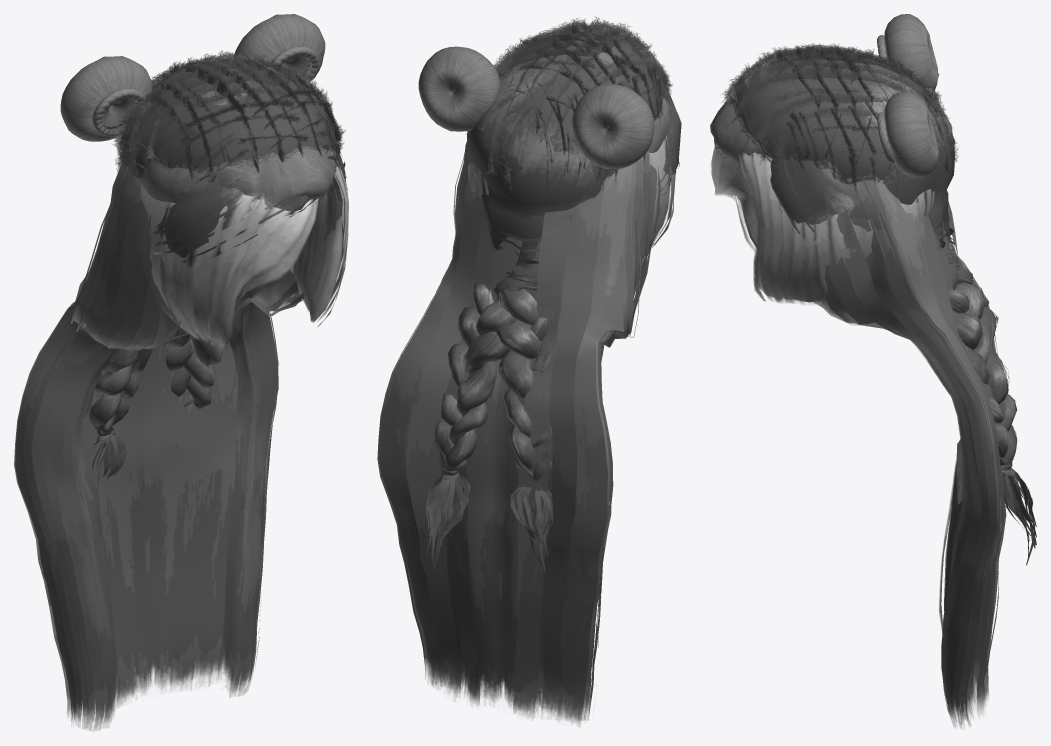
Rendered from male-hair.glb.
3 views of the same model, side by side, from view 1: azimuth 30°, elevation 25°; view 2: azimuth 150°, elevation 25°; view 3: azimuth 270°, elevation 25° (orthographic). The views are drawn at different scales.
Visible parts, largest first — view 1: male-long, male-curls, male-waves, male-braids, male-buns, male-short; view 2: male-long, male-braids, male-curls, male-buns, male-waves, male-short; view 3: male-long, male-braids, male-curls, male-waves, male-buns, male-short.
Part boxes in pixels (x1,y1,x2,y2): male-long: (14, 158, 345, 730); male-curls: (110, 51, 345, 189); male-waves: (139, 160, 348, 350); male-braids: (89, 59, 347, 487); male-buns: (60, 14, 325, 141); male-short: (141, 84, 336, 206); male-long: (377, 140, 661, 726); male-braids: (426, 32, 681, 571); male-curls: (466, 16, 672, 193); male-buns: (418, 46, 654, 168); male-waves: (468, 135, 675, 256); male-short: (585, 44, 670, 158); male-long: (739, 153, 1006, 728); male-braids: (714, 57, 1036, 565); male-curls: (722, 43, 958, 195); male-waves: (711, 144, 934, 304); male-buns: (877, 14, 939, 177); male-short: (710, 55, 835, 163).
Size of the model in its own units: 0.3278 by 0.8418 by 0.3866.
7 materials, 7 textured.
